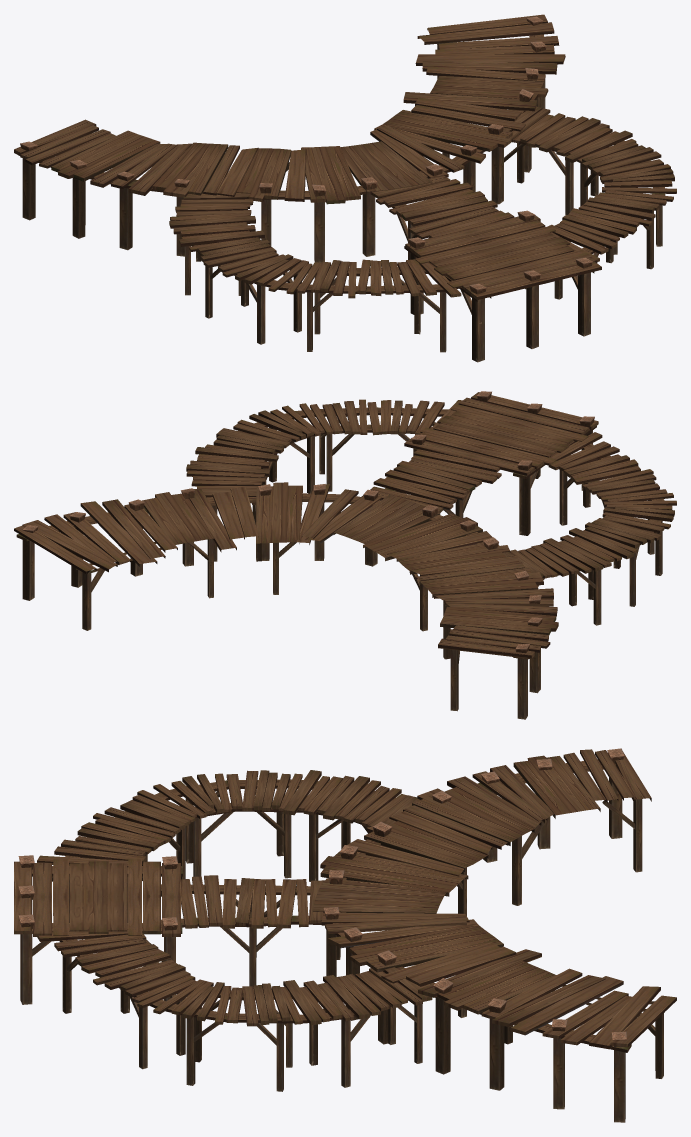
The model's file is zhucheng_muqiao.FBX.
The picture shows the model from 3 angles, top to bottom: view 1: azimuth 30°, elevation 25°; view 2: azimuth 150°, elevation 25°; view 3: azimuth 270°, elevation 25°; orthographic projection. The views are drawn at different scales.
Parts seen in each view (by area): view 1: zhucheng_muqiao; view 2: zhucheng_muqiao; view 3: zhucheng_muqiao.
Part boxes in pixels (x1,y1,x2,y2): zhucheng_muqiao: (14,14,676,362); zhucheng_muqiao: (14,391,676,719); zhucheng_muqiao: (14,748,676,1122).
Bounding box in the file's own units: 1171 × 1100 × 167.
